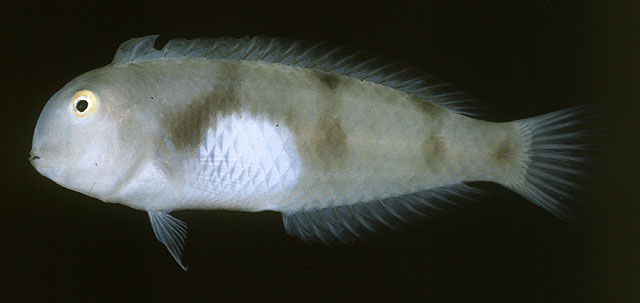fish: (29, 35, 595, 271)
